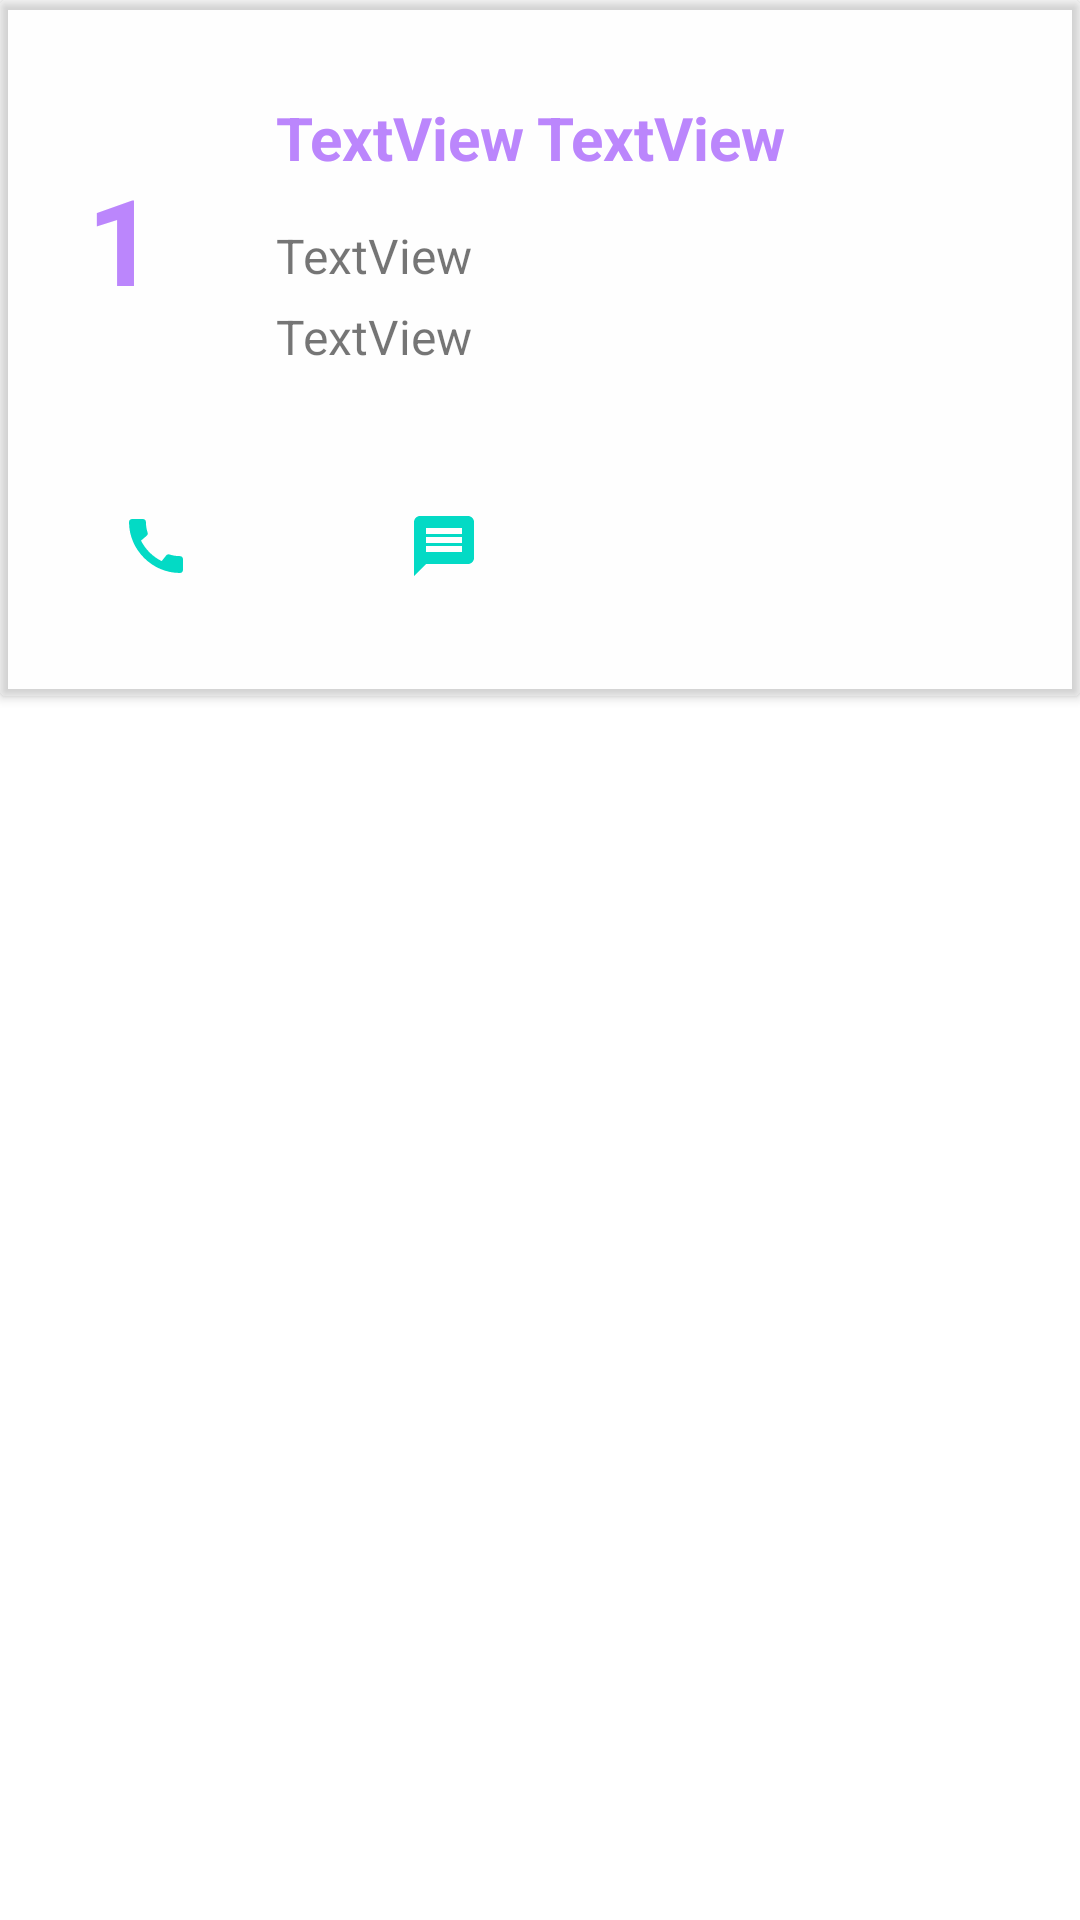

Point at icon controls on the screen. Image size 1080px×1920px, points as point (x, y).
call: point (156, 546)
message: point (444, 546)
